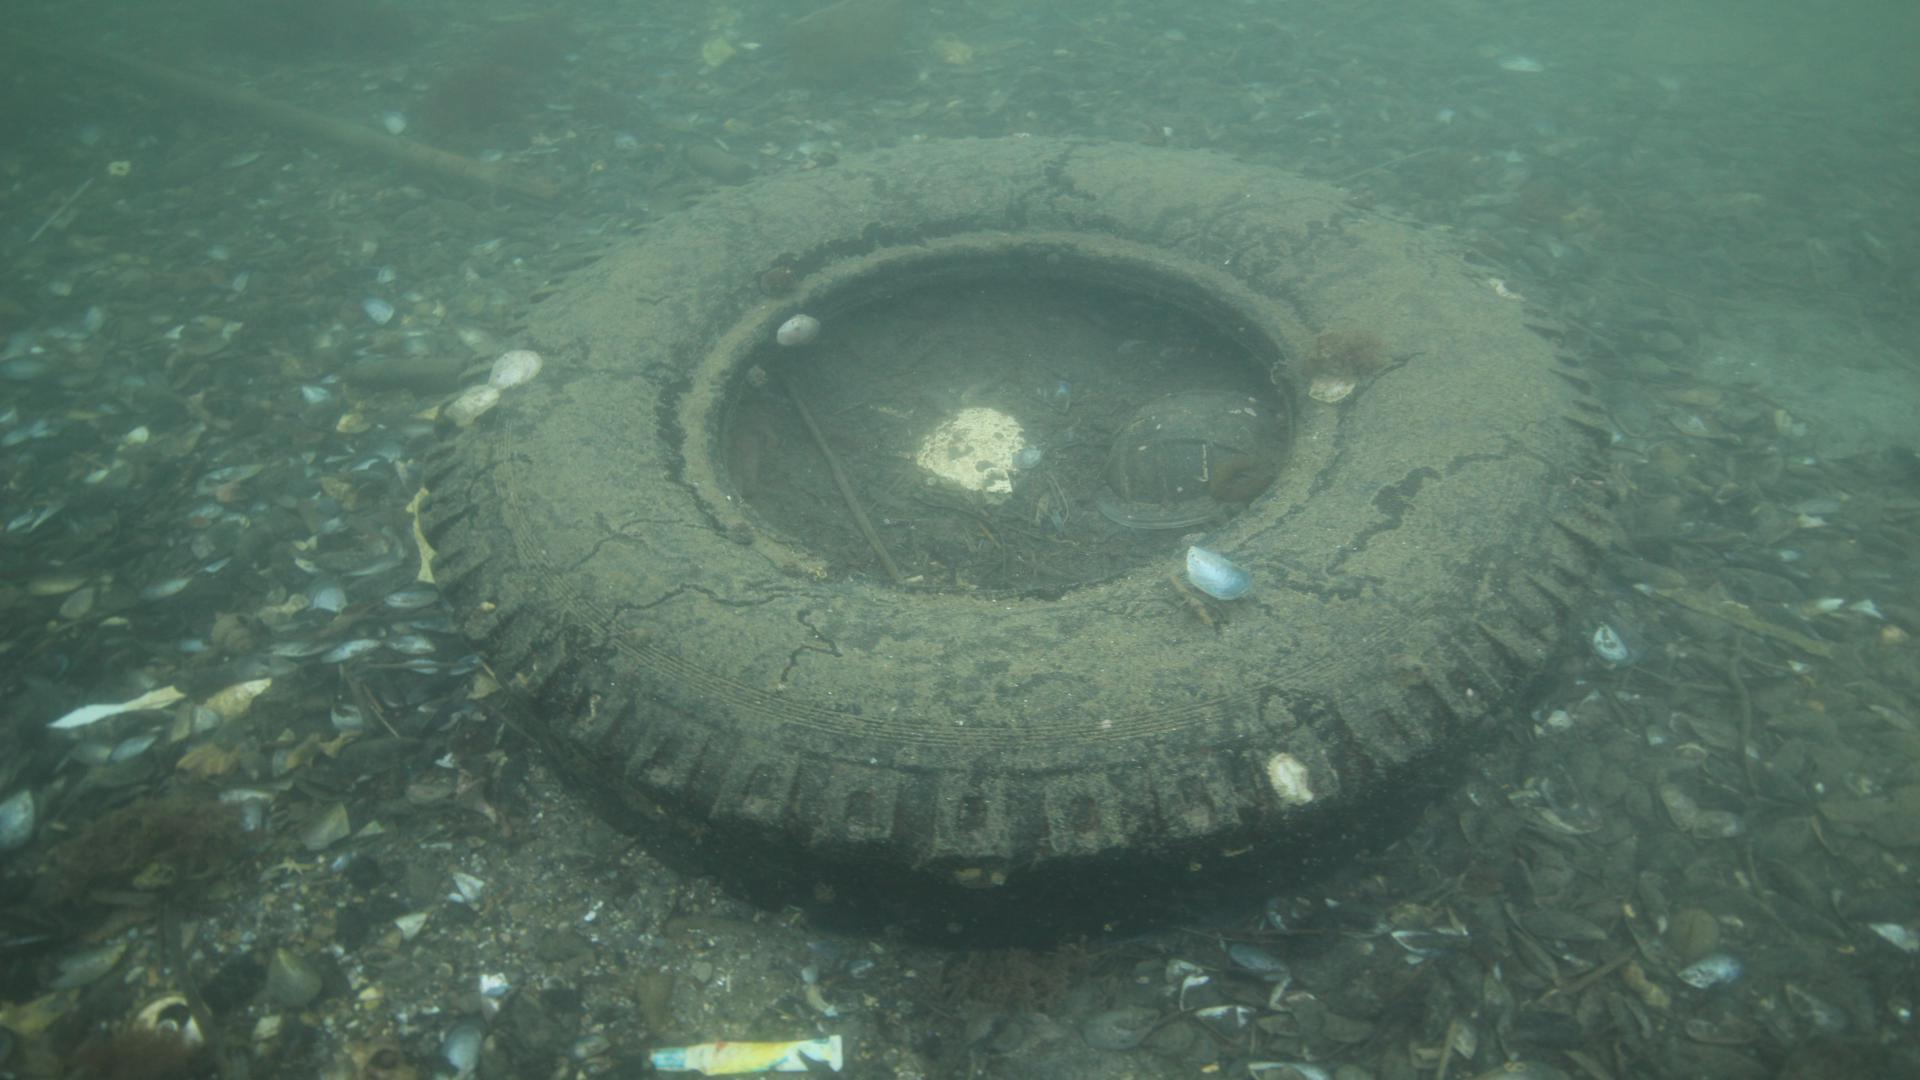tire: (415, 132, 1617, 947)
